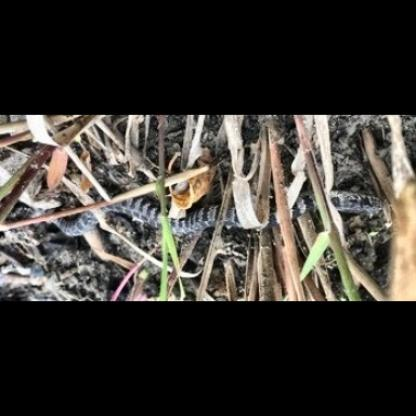Snake: (49, 186, 388, 242)
